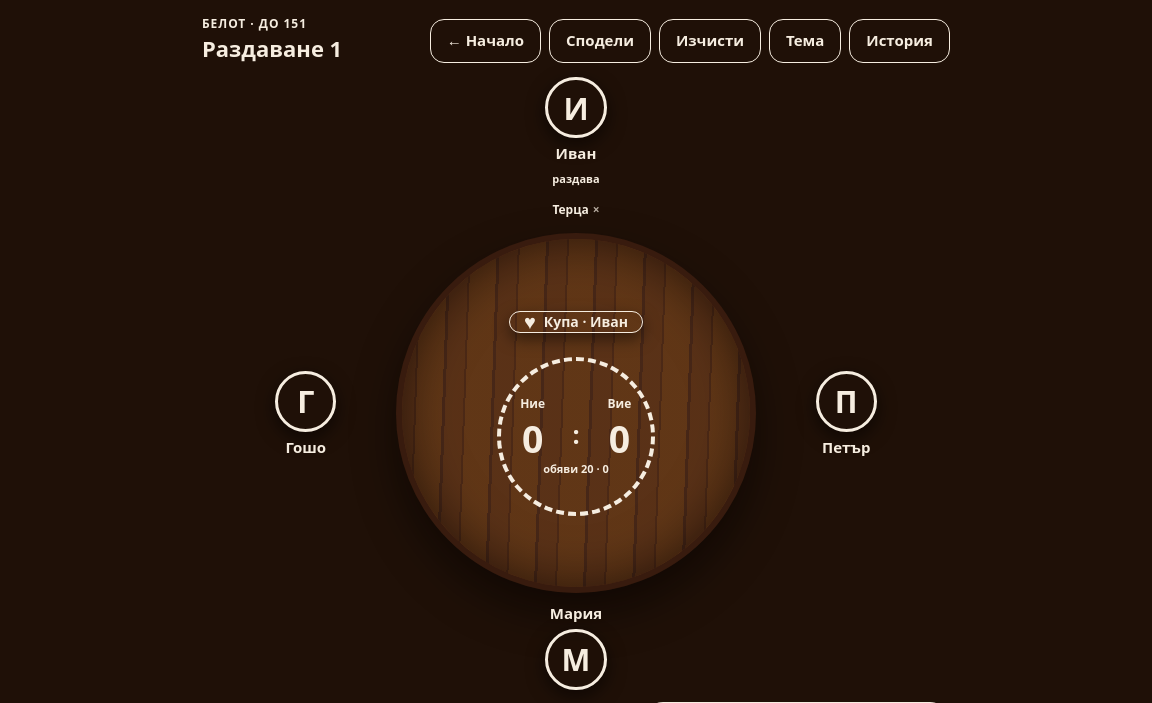
Clear sheet › closes on "Отказ" without touching the deal
Click the button "Изчисти" at [710, 40], box [659,18,761,62]
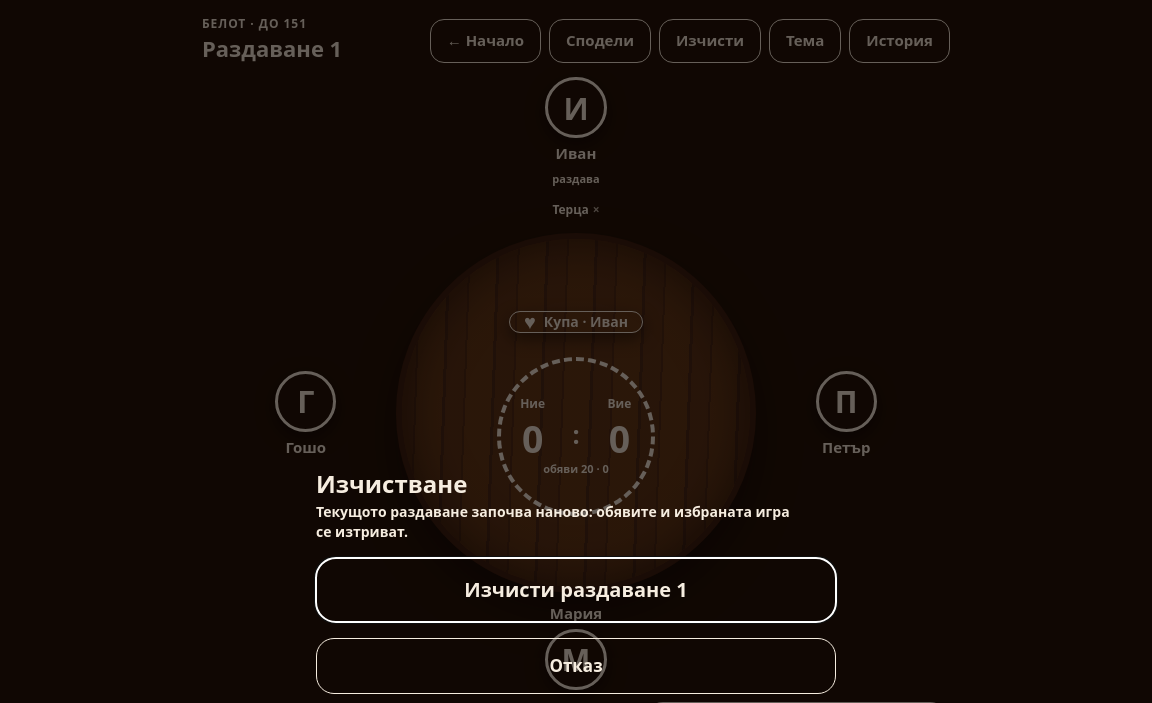
Click the button "Отказ" at [576, 666], box [316,638,836,694]
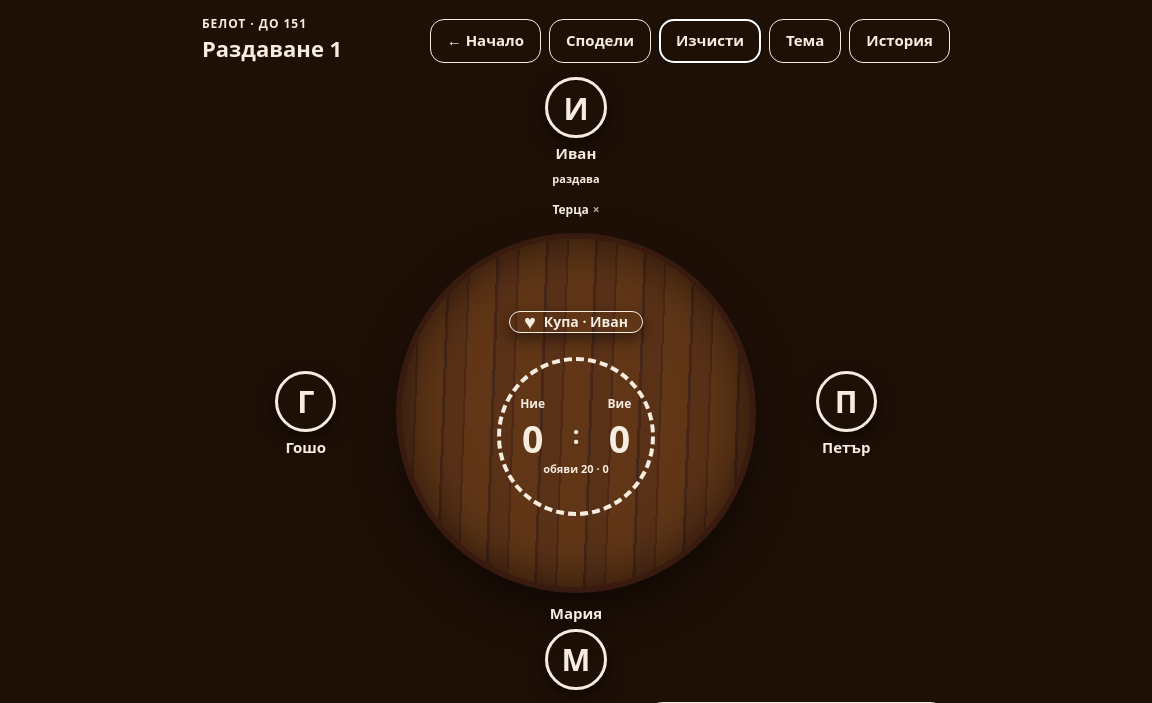
Check: the heading "Изчистване" is gone
